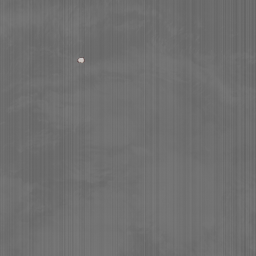Target: (76, 57, 84, 63)
